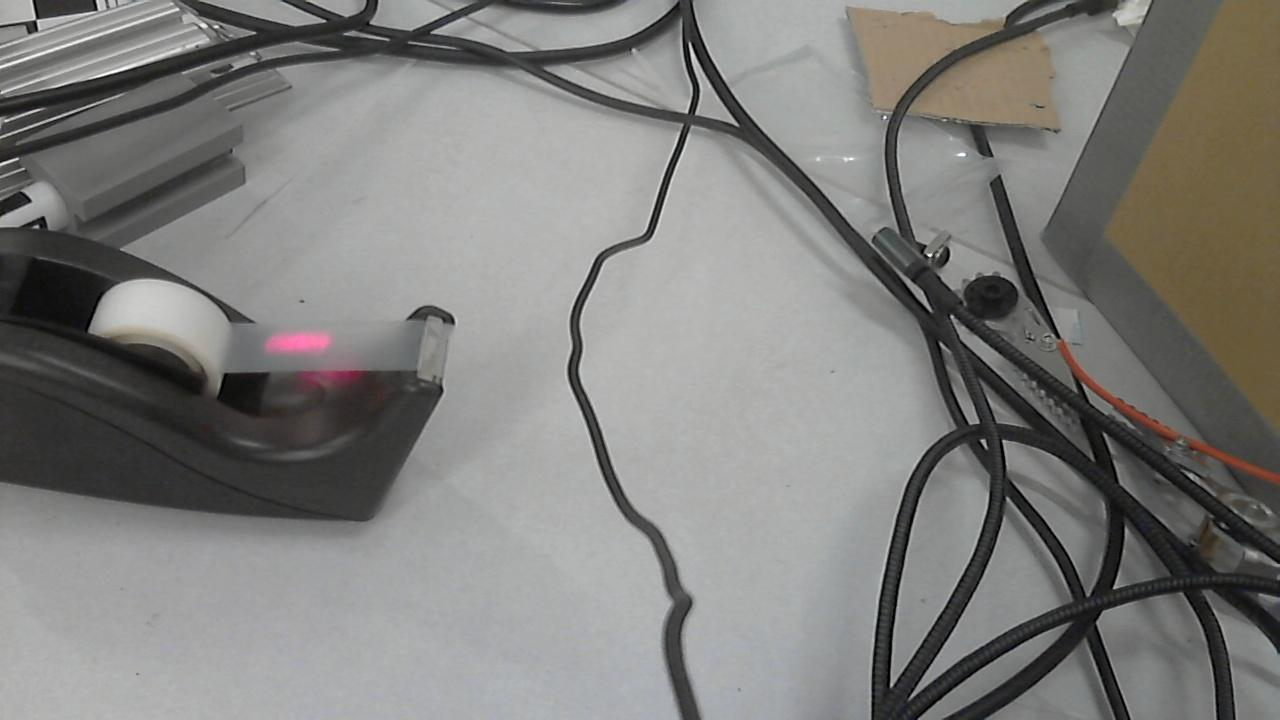Object desktop tape dispenser - Material plastic tape - Pdfname 8pMd29OsIRjD: (259, 314, 343, 356)
